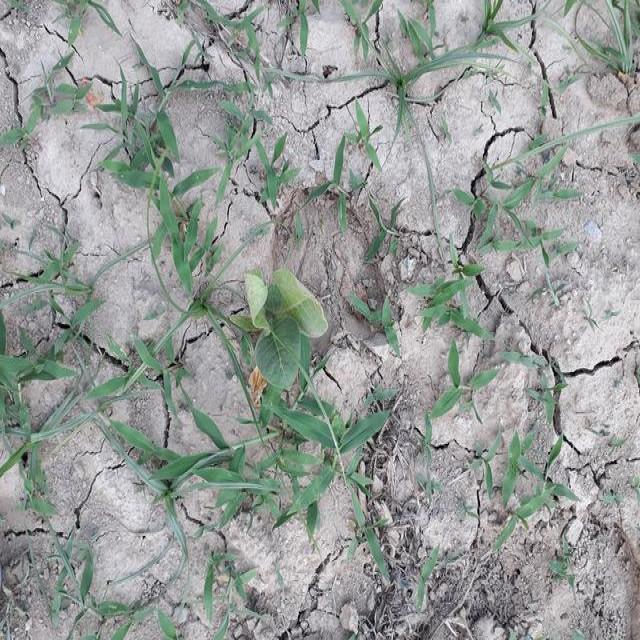crop: (236, 264, 333, 393)
